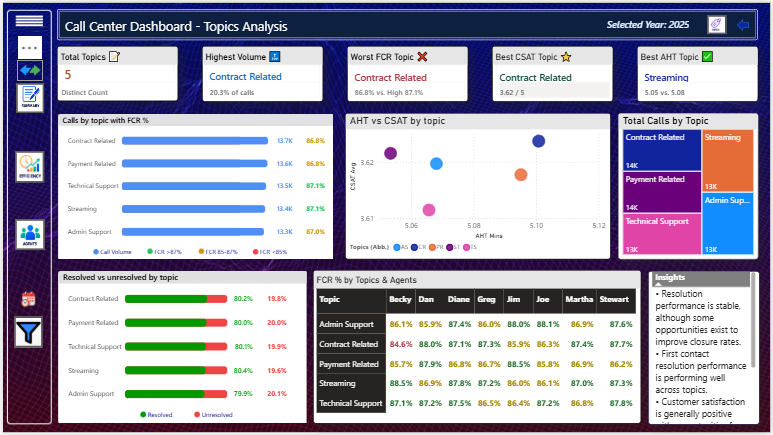

The dashboard page shown, as its layout file describes it:
{"tool":"powerbi","page":{"name":"Topics","canvas":[1280,720],"ordinal":3},"visuals":[{"type":"group","id":"g1","title":"Title","box":[90,11.9,1168.3,51.7],"z":0},{"type":"shape","box":[90,11.9,1168.3,51.7],"z":0,"group":"g1"},{"type":"image","box":[1174.5,22,30.5,30.4],"z":0,"group":"g11"},{"type":"cardVisual","title":"Total Topics 📝","fields":{"Data":["DAX_Measures.Total Topics"]},"box":[90,72.9,202,92],"z":0,"group":"g2"},{"type":"cardVisual","title":"Highest Volume 🔝","fields":{"Data":["DAX_Measures.Highest Category"]},"box":[331.8,72.9,202,92.9],"z":0,"group":"g3"},{"type":"cardVisual","title":"Worst FCR Topic ❌","fields":{"Data":["DAX_Measures.Worst FCR Topic"]},"box":[573.6,72.9,202,93],"z":0,"group":"g6"},{"type":"cardVisual","title":"Best CSAT Topic ⭐","fields":{"Data":["DAX_Measures.Best CSAT Topic"]},"box":[815.4,72.9,202,93],"z":0,"group":"g4"},{"type":"cardVisual","title":"Best AHT Topic  ✅","fields":{"Data":["DAX_Measures.Best AHT Topic"]},"box":[1057.1,72.9,202,93],"z":0,"group":"g5"},{"type":"image","box":[23.5,134.4,43.8,48.2],"z":0,"group":"g9"},{"type":"image","box":[20.7,248.6,45.3,50.1],"z":0,"group":"g7"},{"type":"image","box":[21.6,363.1,46.4,49],"z":0,"group":"g8"},{"type":"image","box":[19.8,526.7,45,49],"z":0,"group":"g10"},{"type":"actionButton","box":[1173.9,21,33.3,32.4],"z":1000,"group":"g11"},{"type":"textbox","box":[102.9,24.8,594.3,30],"z":1000,"group":"g1"},{"type":"group","id":"g2","title":"Calls","box":[90,72.9,201.4,91.4],"z":1000},{"type":"actionButton","box":[21.4,134.3,47.4,50.5],"z":1000,"group":"g9"},{"type":"actionButton","box":[19.8,247.5,49,53],"z":1000,"group":"g7"},{"type":"actionButton","box":[20.6,361.4,50.3,51.9],"z":1000,"group":"g8"},{"type":"actionButton","box":[18.8,523.8,48.1,52.5],"z":1000,"group":"g10"},{"type":"tableEx","title":"Insight","fields":{"Values":["DAX_Measures.Insights_Topics"]},"box":[1074.3,448.6,185.7,255.7],"z":2000},{"type":"group","id":"g3","title":"Calls","box":[331.8,72.9,201.4,92.9],"z":6000},{"type":"group","id":"g4","title":"Calls","box":[815.4,72.9,201.4,92.9],"z":7000},{"type":"group","id":"g5","title":"Calls","box":[1057.1,72.9,202.9,91.4],"z":8000},{"type":"group","id":"g6","title":"Calls","box":[573.6,72.9,201.4,92.9],"z":9000},{"type":"treemap","fields":{"Group":["dim_topics.Topic"],"Values":["DAX_Measures.Total Calls"]},"box":[1025.7,185.7,234.3,244.3],"z":10000},{"type":"image","box":[90,185.7,460,244.3],"z":11000},{"type":"image","box":[90,447.1,415.7,255.7],"z":12000},{"type":"scatterChart","title":"AHT vs CSAT by topic","fields":{"X":["DAX_Measures.AHT"],"Y":["DAX_Measures.CSAT Avg"],"Size":["DAX_Measures.Total Calls"],"Category":["dim_topics.Topic"],"Series":["dim_topics.Topic Abbreviation"]},"box":[570,185.7,442.9,244.3],"z":13000},{"type":"pivotTable","title":"FCR % by Topics & Agents","fields":{"Values":["DAX_Measures.FCR %"],"Columns":["dim_agents.Agent"],"Rows":["dim_topics.Topic"]},"box":[517.1,447.1,547.1,255.7],"z":14000},{"type":"group","id":"g7","title":"Efficiency Button","box":[19.8,247.5,48.8,52.5],"z":15000},{"type":"group","id":"g8","title":"Agents Button","box":[20.6,361.4,50,51.4],"z":16000},{"type":"group","id":"g9","title":"Summary Button","box":[21.4,134.3,47.1,50],"z":17000},{"type":"actionButton","box":[9,12,73,50],"z":19000},{"type":"group","id":"g10","title":"Date Icon","box":[18.8,523.8,48.8,52.5],"z":20000},{"type":"image","box":[22.9,97.1,44.3,34.3],"z":23000},{"type":"image","box":[20,478.6,45.7,34.3],"z":24000},{"type":"cardVisual","fields":{"Data":["DAX_Measures.T_Topic Period Label"]},"box":[782.9,20,360,30],"z":25000},{"type":"shape","box":[1222.5,28.8,20,20],"z":26000},{"type":"group","id":"g11","title":"Topics Button","box":[1173.9,21,34.3,31.4],"z":27000}]}

Visuals, with their boxes on the page's 1280x720 design canvas (x1, y1, x2, y2). These are canvas units, not pixel positions in the 773x435 screenshot, which may show the page scaled, cropped or inside an application window:
"Title" group: box=[90, 12, 1258, 64]
shape: box=[90, 12, 1258, 64]
image: box=[1174, 22, 1205, 52]
"Total Topics 📝" cardVisual: box=[90, 73, 292, 165]
"Highest Volume 🔝" cardVisual: box=[332, 73, 534, 166]
"Worst FCR Topic ❌" cardVisual: box=[574, 73, 776, 166]
"Best CSAT Topic ⭐" cardVisual: box=[815, 73, 1017, 166]
"Best AHT Topic  ✅" cardVisual: box=[1057, 73, 1259, 166]
image: box=[24, 134, 67, 183]
image: box=[21, 249, 66, 299]
image: box=[22, 363, 68, 412]
image: box=[20, 527, 65, 576]
actionButton: box=[1174, 21, 1207, 53]
textbox: box=[103, 25, 697, 55]
"Calls" group: box=[90, 73, 291, 164]
actionButton: box=[21, 134, 69, 185]
actionButton: box=[20, 248, 69, 300]
actionButton: box=[21, 361, 71, 413]
actionButton: box=[19, 524, 67, 576]
"Insight" tableEx: box=[1074, 449, 1260, 704]
"Calls" group: box=[332, 73, 533, 166]
"Calls" group: box=[815, 73, 1017, 166]
"Calls" group: box=[1057, 73, 1260, 164]
"Calls" group: box=[574, 73, 775, 166]
treemap - dim_topics.Topic x DAX_Measures.Total Calls: box=[1026, 186, 1260, 430]
image: box=[90, 186, 550, 430]
image: box=[90, 447, 506, 703]
"AHT vs CSAT by topic" scatterChart: box=[570, 186, 1013, 430]
"FCR % by Topics & Agents" pivotTable: box=[517, 447, 1064, 703]
"Efficiency Button" group: box=[20, 248, 69, 300]
"Agents Button" group: box=[21, 361, 71, 413]
"Summary Button" group: box=[21, 134, 68, 184]
actionButton: box=[9, 12, 82, 62]
"Date Icon" group: box=[19, 524, 68, 576]
image: box=[23, 97, 67, 131]
image: box=[20, 479, 66, 513]
cardVisual - DAX_Measures.T_Topic Period Label: box=[783, 20, 1143, 50]
shape: box=[1222, 29, 1242, 49]
"Topics Button" group: box=[1174, 21, 1208, 52]
